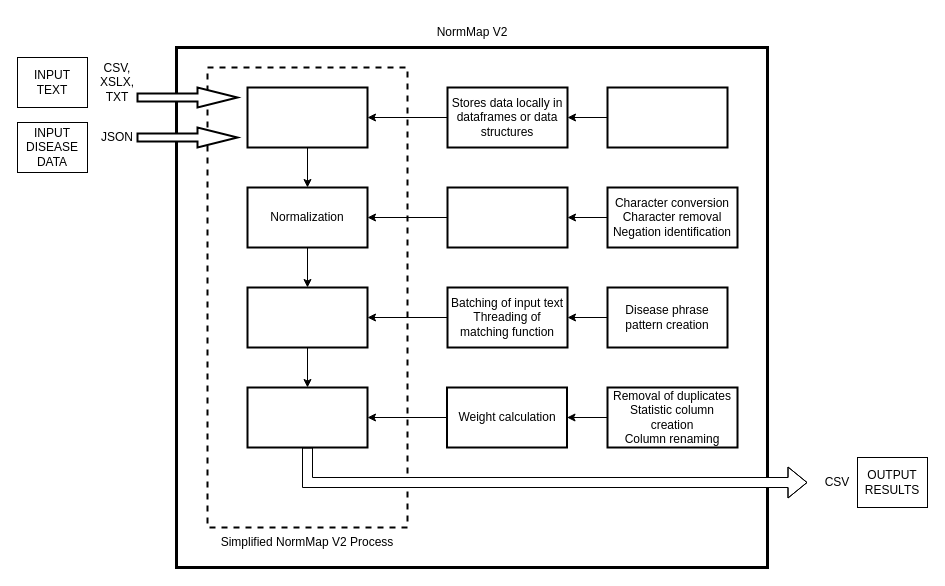
This 945x586 diagram has some shape labels left out. Each missing label, with the centre of its shape:
Converts file to CSV format if needed: the point at 667,117
Data cleaning: the point at 307,417
File type conversion Data preprocessing: the point at 307,117
NLP disease matching: the point at 307,317
Word lemmatization (Plural to singular): the point at 507,217
